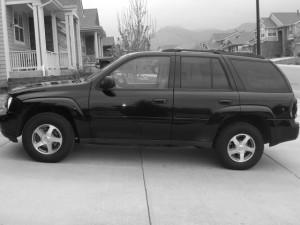car: (1, 50, 299, 173)
